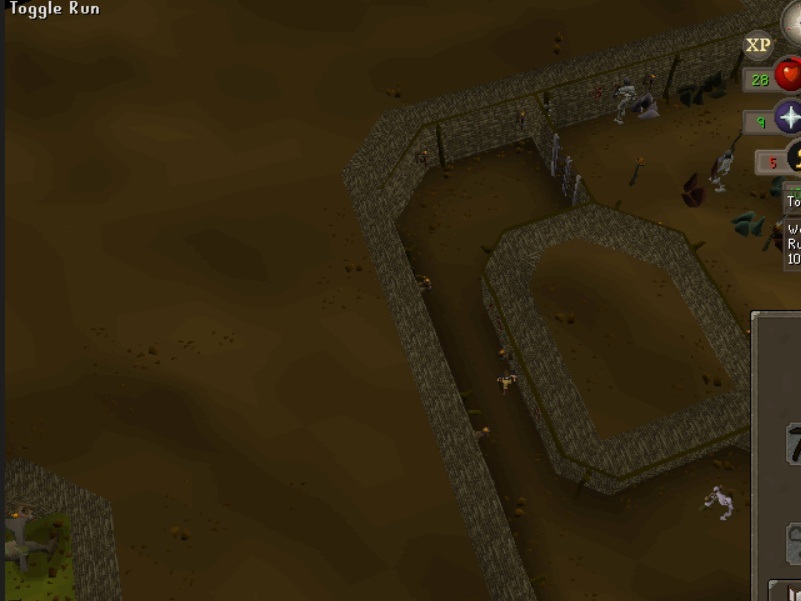adamant: (728, 206, 768, 240)
coal: (673, 80, 706, 109), (701, 68, 734, 97)
iron: (677, 171, 710, 209)
tin: (631, 89, 666, 123)
